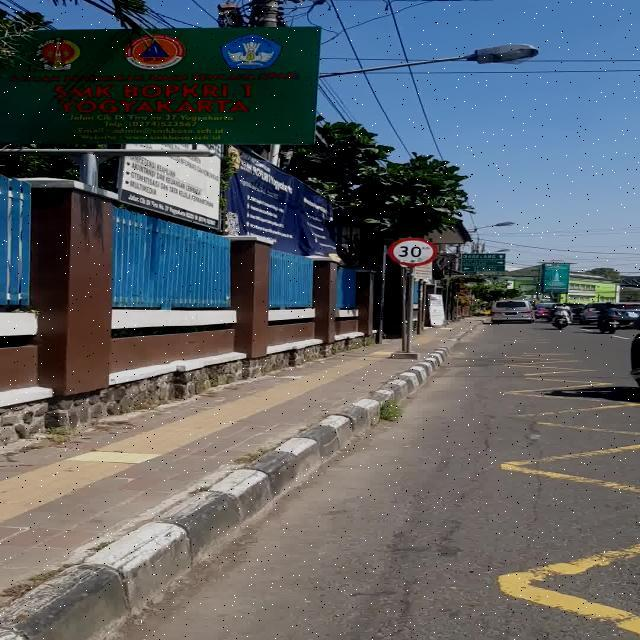Kecepatan Maks. 30 km: (388, 238, 437, 266)
